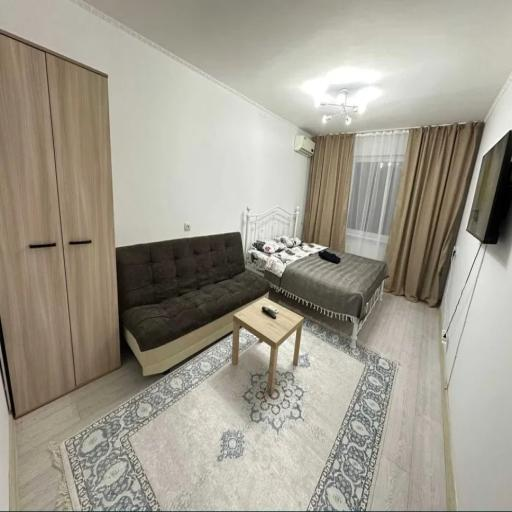car: (0, 33, 120, 415)
person: (244, 207, 388, 347)
sidewalk: (116, 233, 269, 374)
